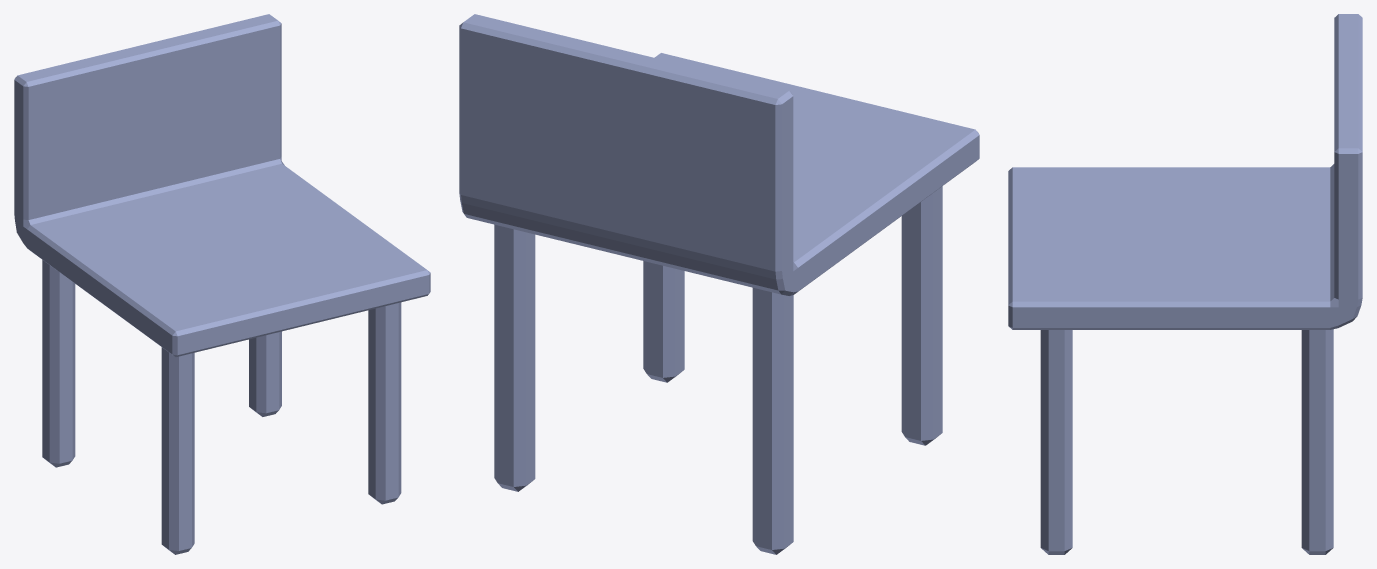
Rendered from chair.fbx.
3 renders of one model, left to right at view 1: azimuth 30°, elevation 25°; view 2: azimuth 150°, elevation 25°; view 3: azimuth 270°, elevation 25°, orthographic. The views are drawn at different scales.
Visible parts, largest first — view 1: Cube; view 2: Cube; view 3: Cube.
Part boxes in pixels (left/top/right/bottom): Cube: left=14, top=14, right=430, bottom=554; Cube: left=459, top=14, right=979, bottom=554; Cube: left=1008, top=14, right=1362, bottom=554.
Size of the model in its own units: 200 by 281 by 217.
